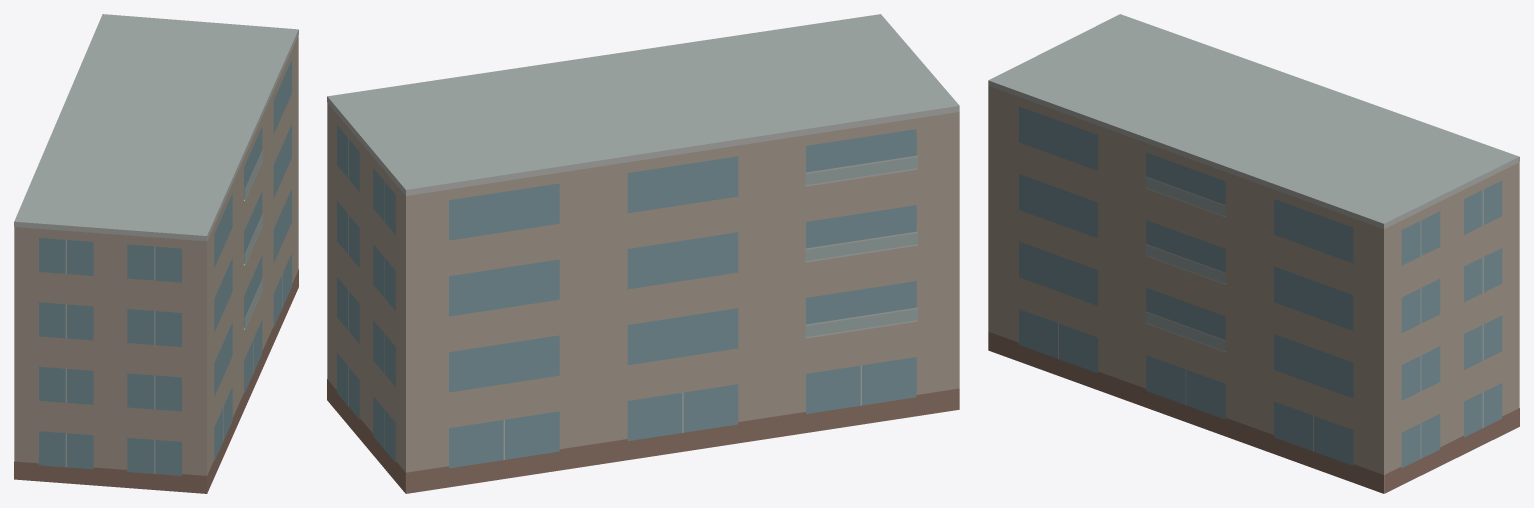
File: survey-upis-32686593.glb
3 renders of one model, left to right at view 1: azimuth 30°, elevation 25°; view 2: azimuth 150°, elevation 25°; view 3: azimuth 270°, elevation 25°, orthographic. The views are drawn at different scales.
Parts seen in each view (by area): view 1: survey-upis-32686593.tmp; view 2: survey-upis-32686593.tmp; view 3: survey-upis-32686593.tmp.
Part boxes in pixels (x1,y1,x2,y2): survey-upis-32686593.tmp: (14,14,298,493); survey-upis-32686593.tmp: (327,14,959,493); survey-upis-32686593.tmp: (988,14,1519,493).
Bounding box in the file's own units: 20.34 × 12.2 × 21.77.
